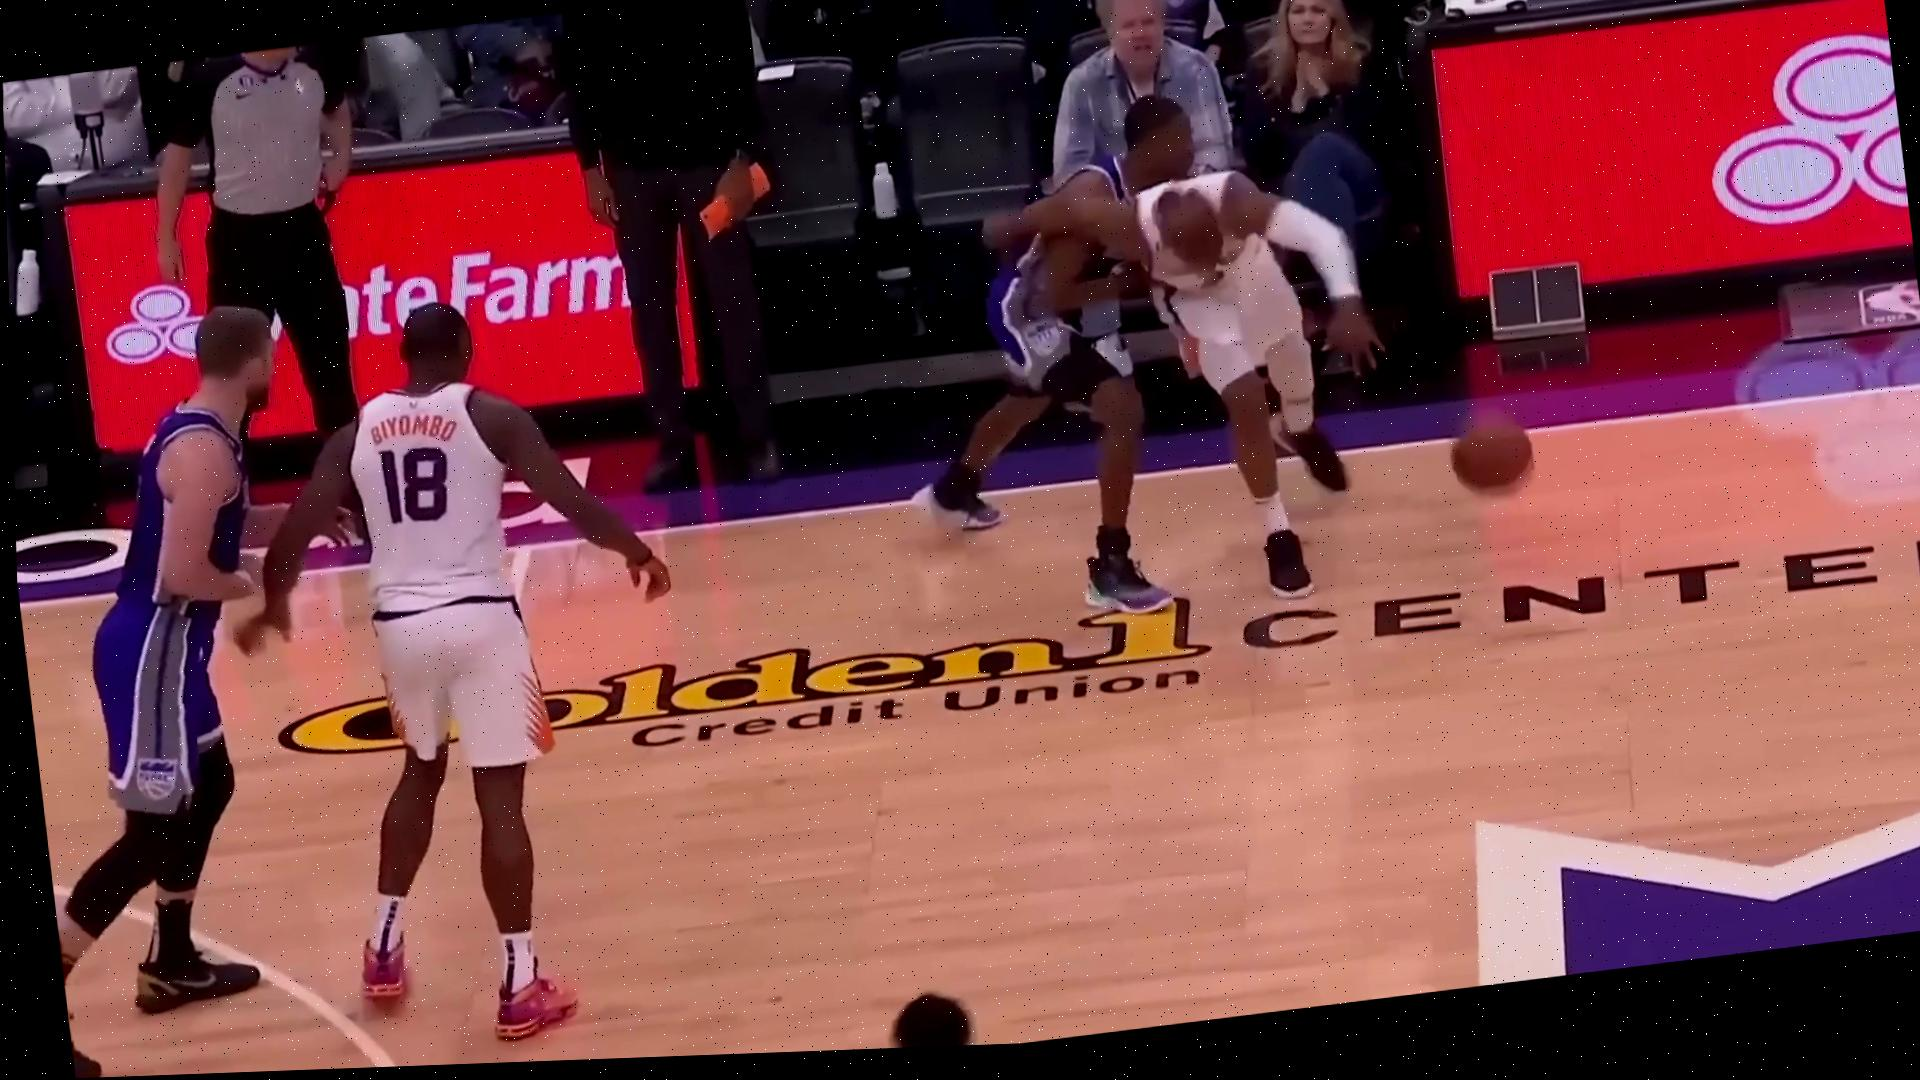foul: (894, 70, 1412, 630)
